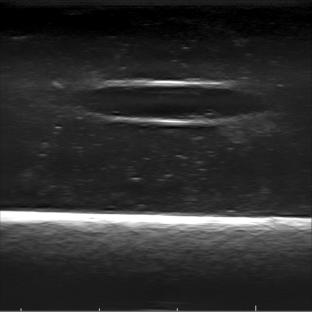vessel: (71, 79, 271, 128)
